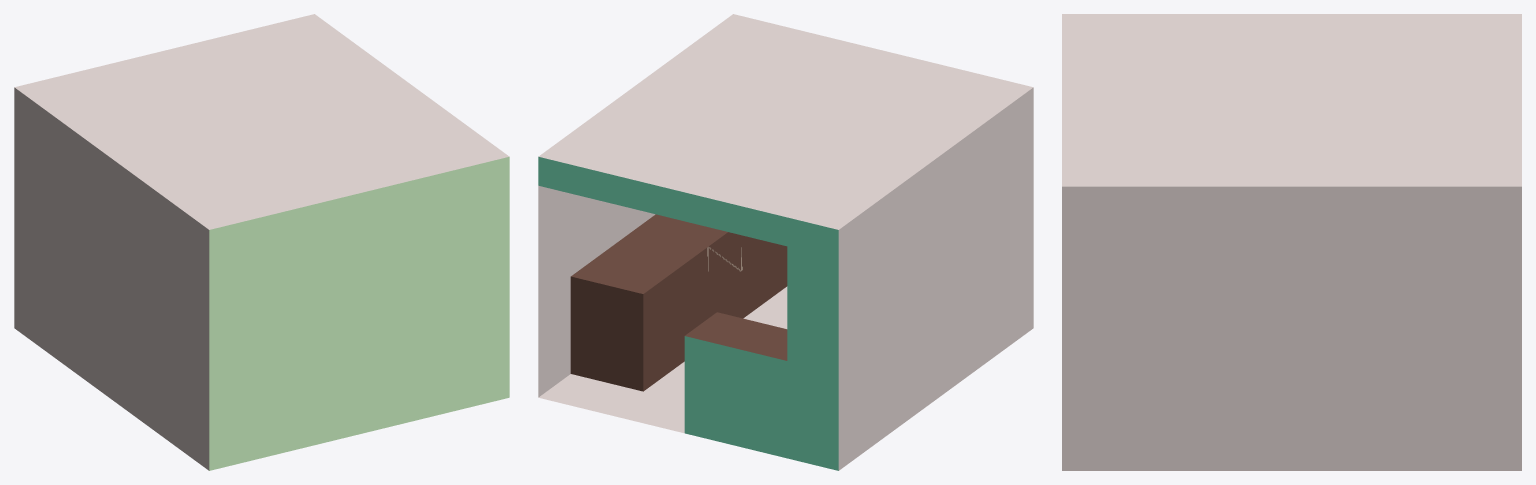
File: kitchen.fbx
3 renders of one model, left to right at view 1: azimuth 30°, elevation 25°; view 2: azimuth 150°, elevation 25°; view 3: azimuth 270°, elevation 25°, orthographic. The views are drawn at different scales.
Parts seen in each view (by area): view 1: kitchen; view 2: kitchen; view 3: kitchen.
Boxes of the visible parts, <box> form: kitchen: <box>14,14,509,470</box>; kitchen: <box>538,14,1033,470</box>; kitchen: <box>1062,14,1521,470</box>.
Size of the model in its own units: 298 by 229 by 335.
